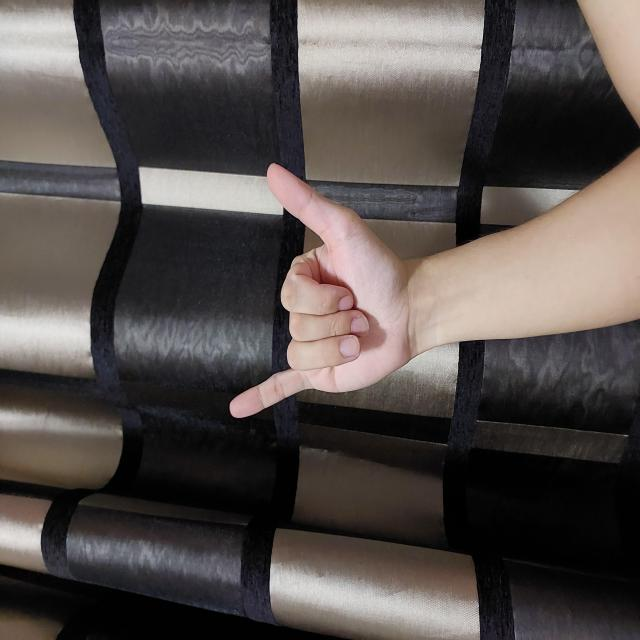Y: (221, 229, 479, 410)
